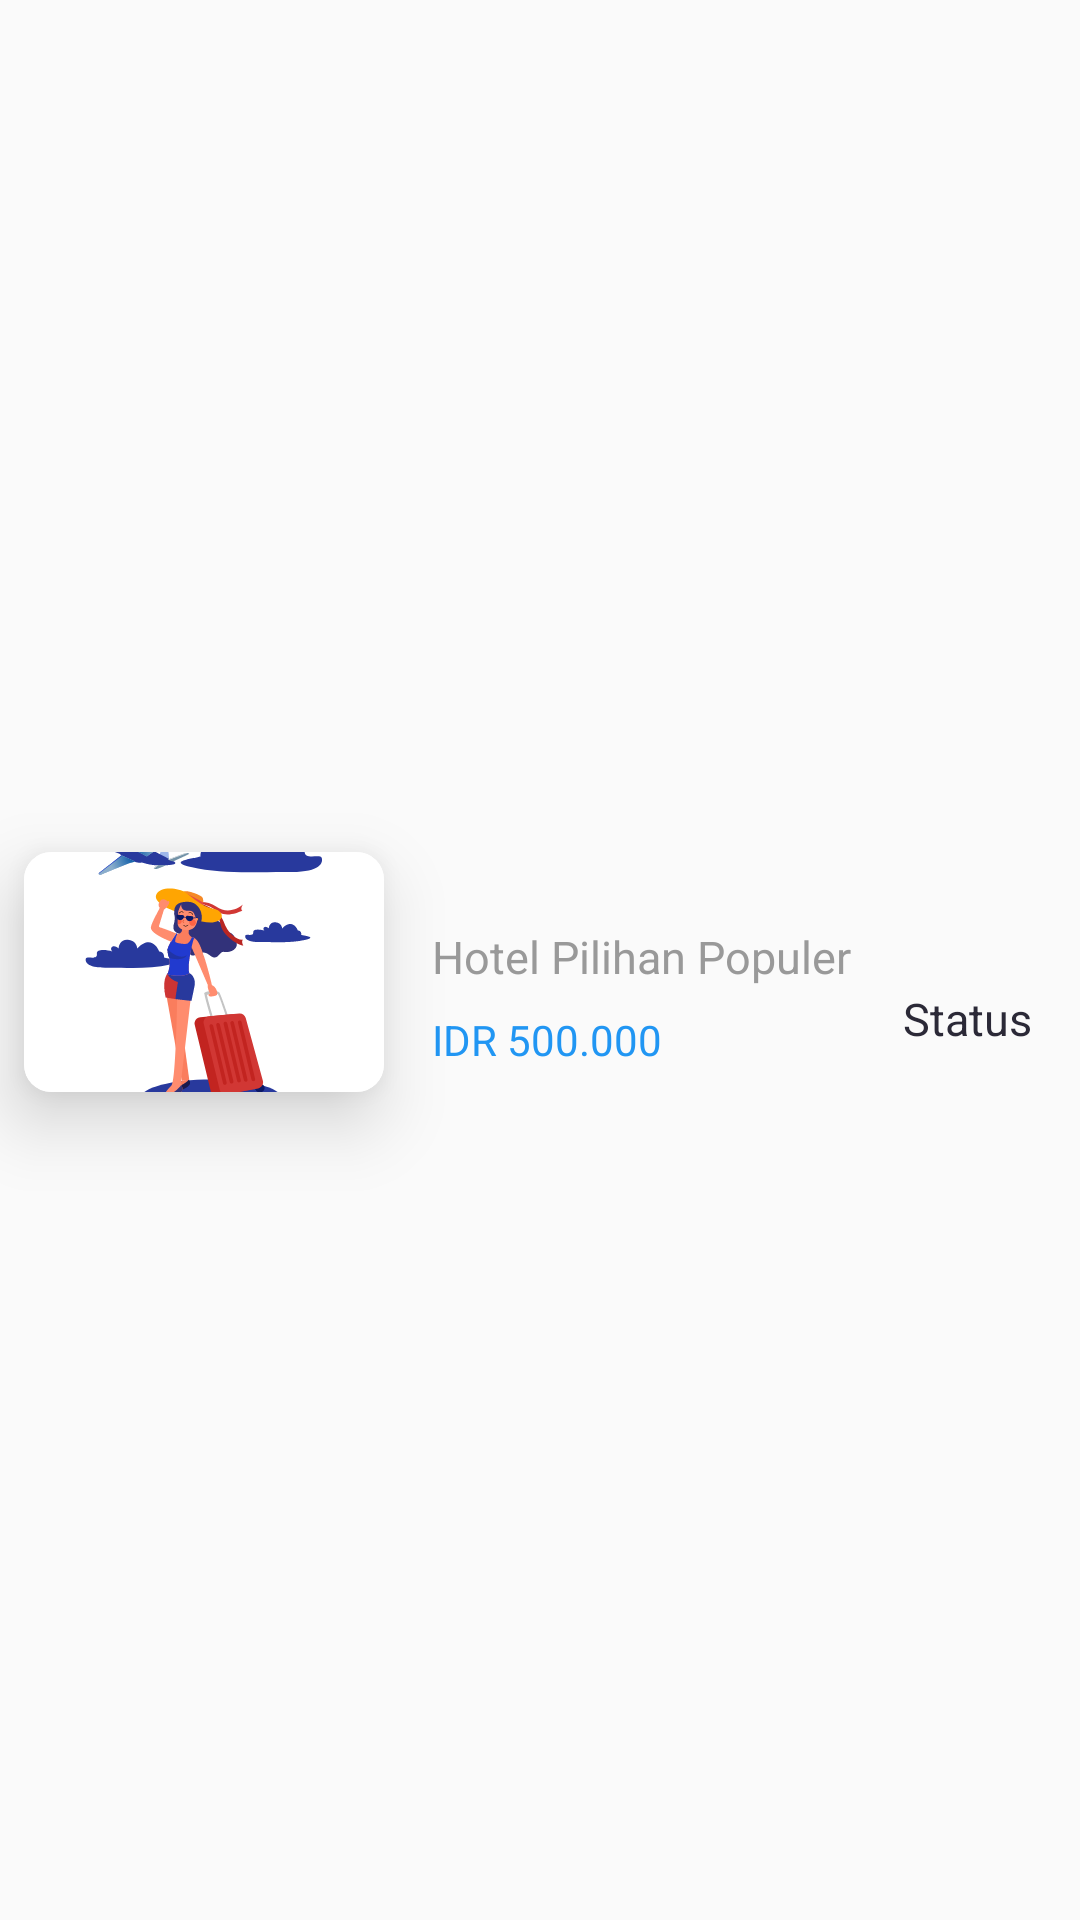

Where to tap for icons on this 1080*1920 app screen, as [x,y]:
gambar: [204,972]
